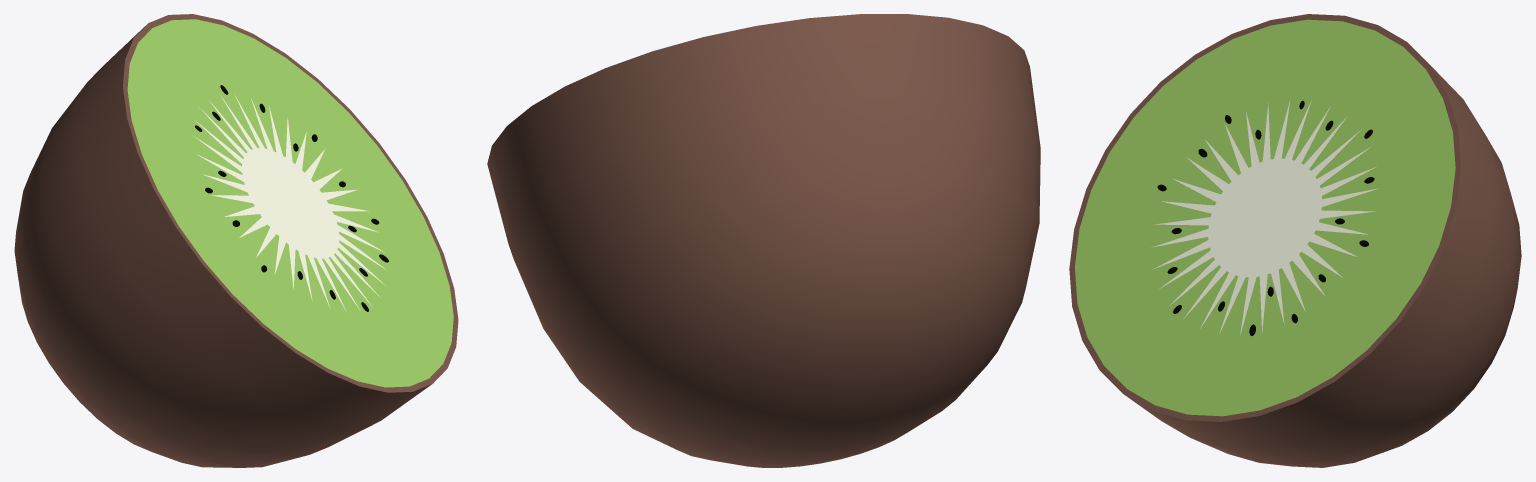
File: kiwi_fruit.glb
3 renders of one model, left to right at view 1: azimuth 30°, elevation 25°; view 2: azimuth 150°, elevation 25°; view 3: azimuth 270°, elevation 25°, orthographic. The views are drawn at different scales.
Parts seen in each view (by area): view 1: Sphere.480; view 2: Sphere.480; view 3: Sphere.480.
Boxes of the visible parts, left/top/right/bottom form: Sphere.480: left=14, top=14, right=458, bottom=467; Sphere.480: left=487, top=14, right=1040, bottom=467; Sphere.480: left=1069, top=14, right=1521, bottom=467.
Bounding box in the file's own units: 2.21 × 2.12 × 2.21.
1 material, 1 textured.
